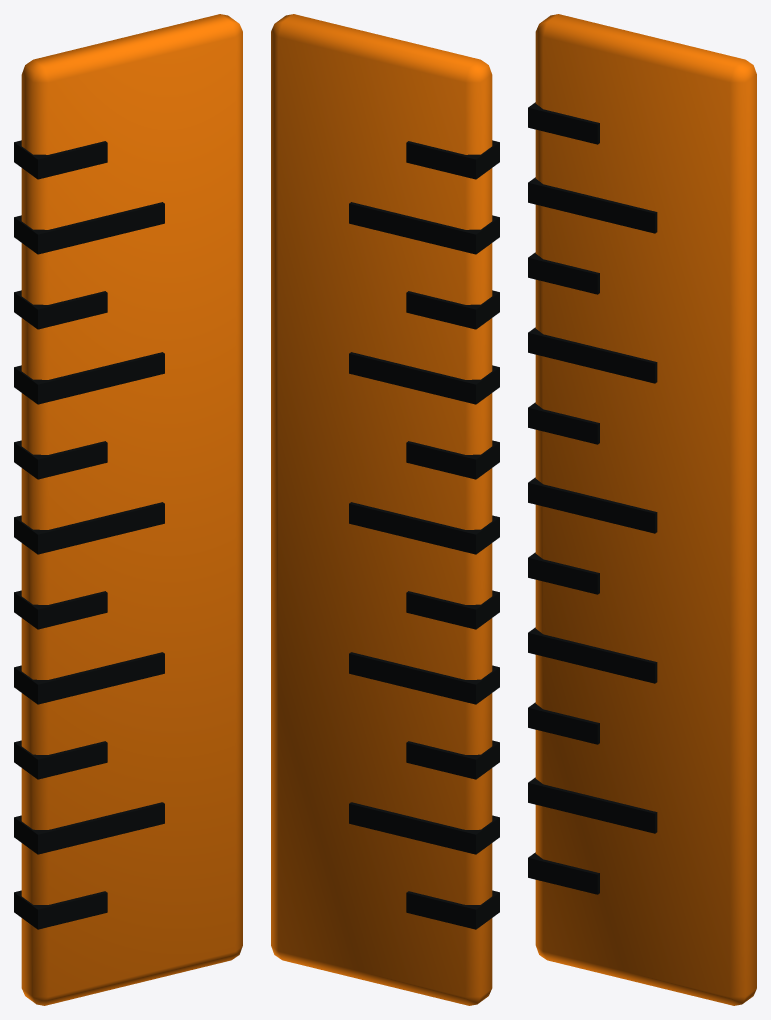
The model's file is ruler.obj.
3 views of the same model, side by side, from view 1: azimuth 30°, elevation 25°; view 2: azimuth 150°, elevation 25°; view 3: azimuth 330°, elevation 25° (orthographic).
Visible parts, largest first — view 1: ruler_Cube.235; view 2: ruler_Cube.235; view 3: ruler_Cube.235.
Part boxes in pixels (bbox=[...]): ruler_Cube.235: bbox=[14, 14, 242, 1005]; ruler_Cube.235: bbox=[271, 14, 499, 1005]; ruler_Cube.235: bbox=[528, 14, 756, 1005].
Size of the model in its own units: 0.1474 by 0.6253 by 0.0288.
